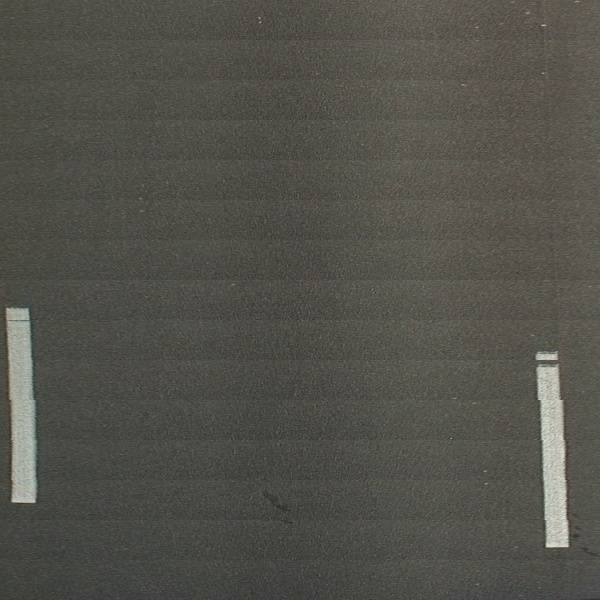road_damage: (258, 487, 297, 530)
